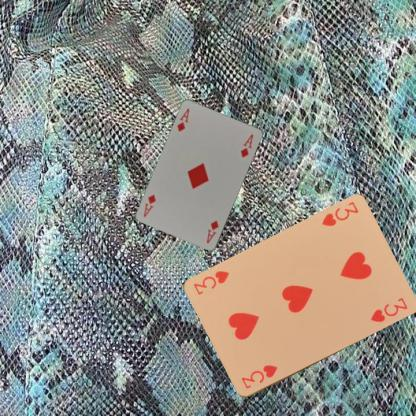3h: (318, 199, 360, 228), (238, 362, 279, 391)
Ad: (204, 218, 220, 245), (174, 106, 190, 133)
